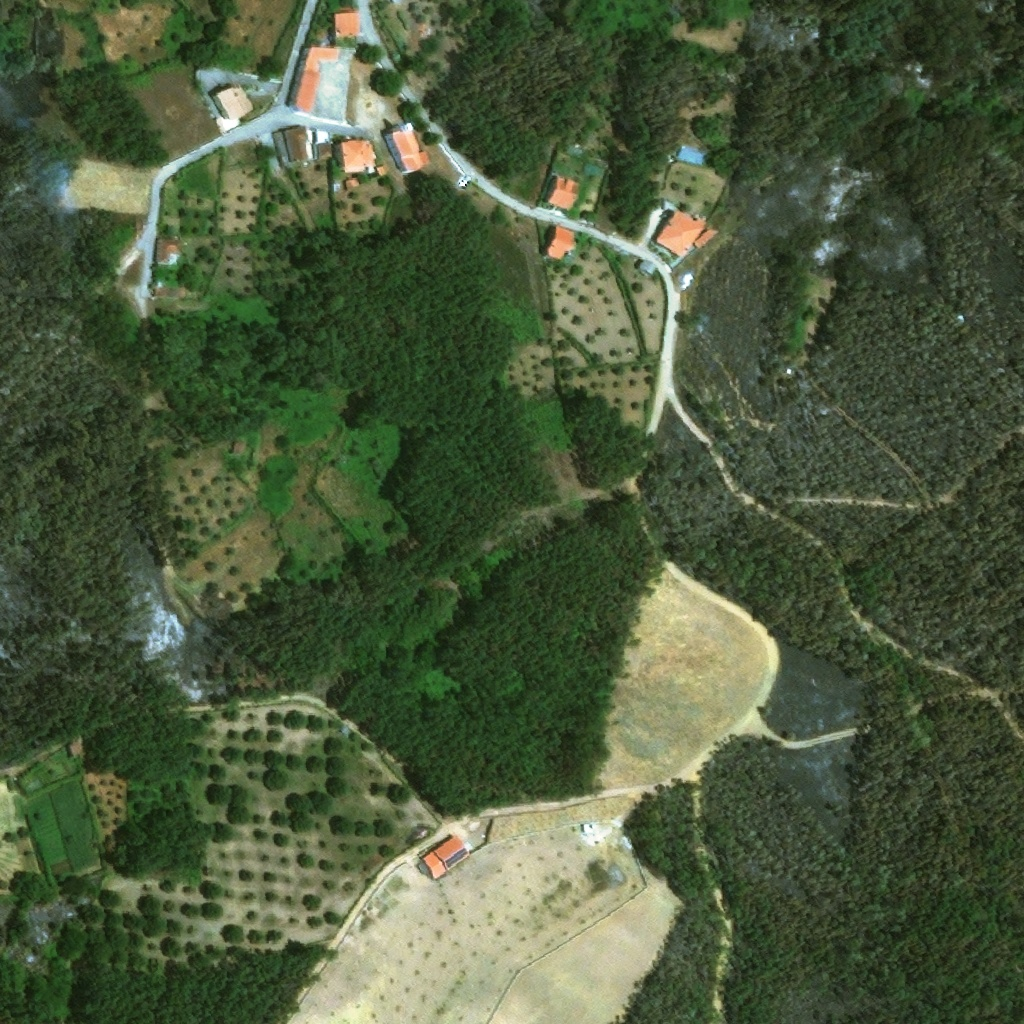0 no-damage: (295, 46, 339, 111), (653, 211, 705, 257), (215, 87, 254, 126), (434, 837, 470, 871), (392, 131, 420, 171), (547, 178, 579, 212), (548, 228, 577, 261), (343, 140, 375, 168), (286, 127, 309, 162), (422, 852, 448, 881), (153, 239, 179, 266), (334, 12, 359, 40), (272, 132, 289, 166), (674, 149, 702, 167), (152, 285, 186, 299), (693, 231, 717, 250), (318, 145, 333, 161), (346, 177, 360, 189), (375, 165, 387, 178), (389, 0, 401, 5)
4 un-classified: (333, 183, 342, 193)
